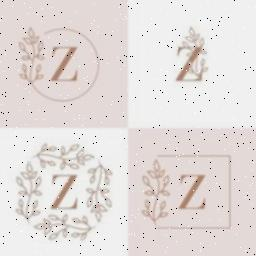z: (178, 170, 212, 214), (48, 44, 84, 84), (47, 172, 81, 212)
